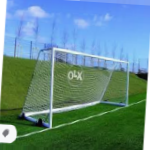goals: (19, 45, 131, 129)
